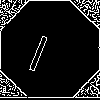I: (25, 25, 55, 73)
